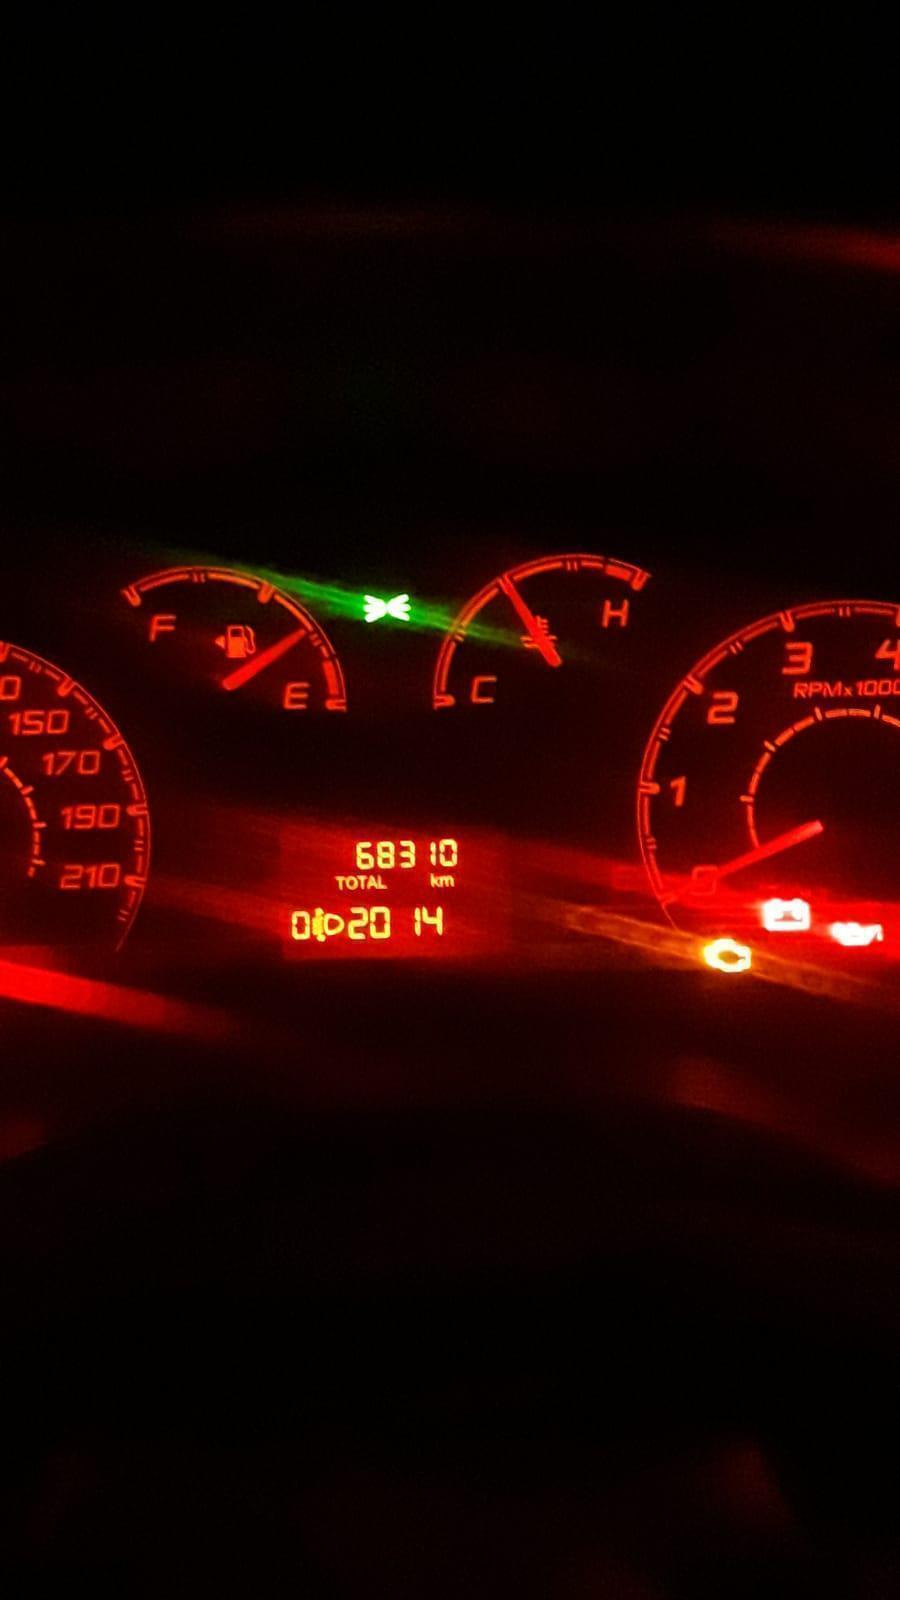0: (369, 904, 391, 941), (289, 907, 310, 942), (437, 837, 458, 867)
1: (411, 905, 421, 938), (427, 838, 435, 867)
2: (348, 905, 368, 944)
3: (398, 838, 416, 868)
4: (422, 905, 444, 937)
6: (355, 838, 374, 870)
8: (378, 840, 395, 870)
X: (333, 871, 344, 893), (438, 873, 454, 888), (376, 874, 388, 891), (345, 874, 357, 891), (357, 873, 367, 890), (429, 871, 438, 888), (367, 874, 376, 889)
odometer: (270, 816, 525, 970)
